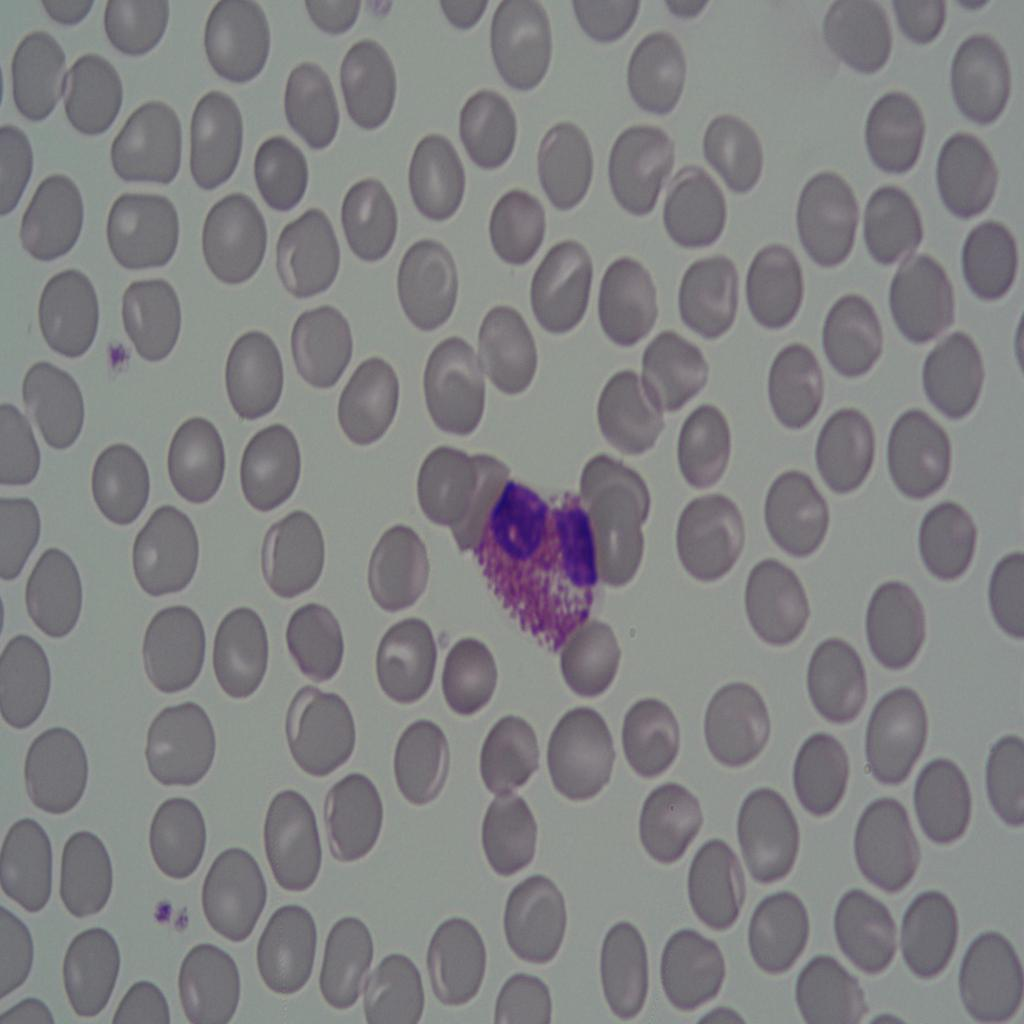Eosinofil: (472, 474, 601, 665)
Platelet: (98, 330, 134, 382), (145, 884, 176, 932)
